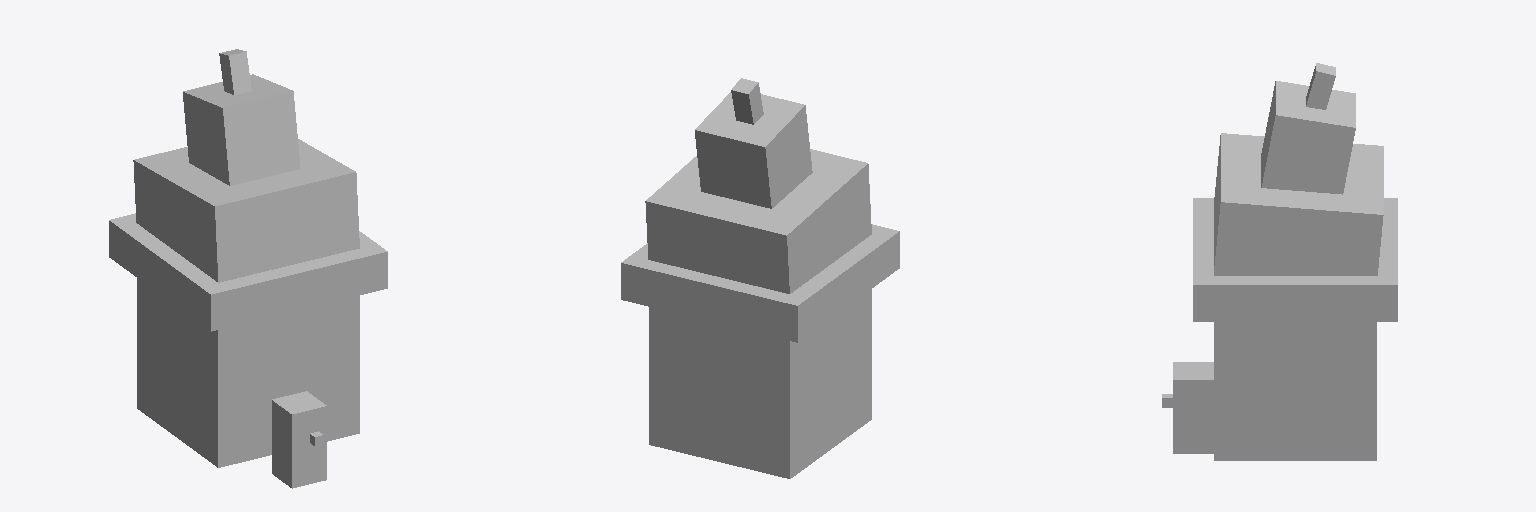
Rendered from witch_head.obj.
3 views of the same model, side by side, from view 1: azimuth 30°, elevation 25°; view 2: azimuth 150°, elevation 25°; view 3: azimuth 270°, elevation 25° (orthographic).
Visible parts, largest first — view 1: Cube; view 2: Cube; view 3: Cube.
Boxes of the visible parts, <box> form: Cube: <box>109,49,387,488</box>; Cube: <box>621,78,899,478</box>; Cube: <box>1162,63,1397,460</box>.
Size of the model in its own units: 0.625 by 1.28 by 0.7188.